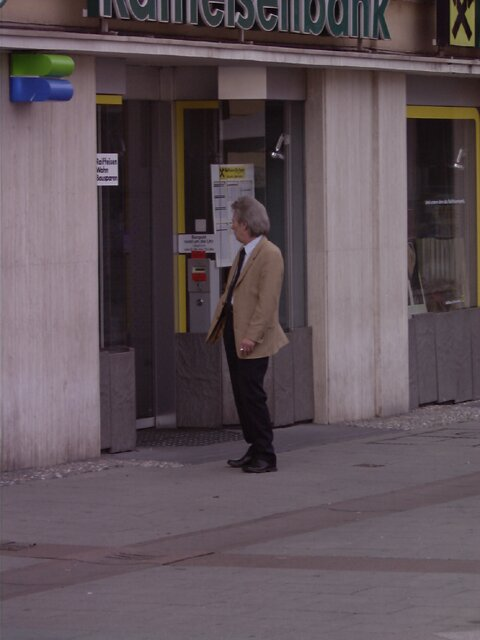person: (198, 192, 296, 480)
